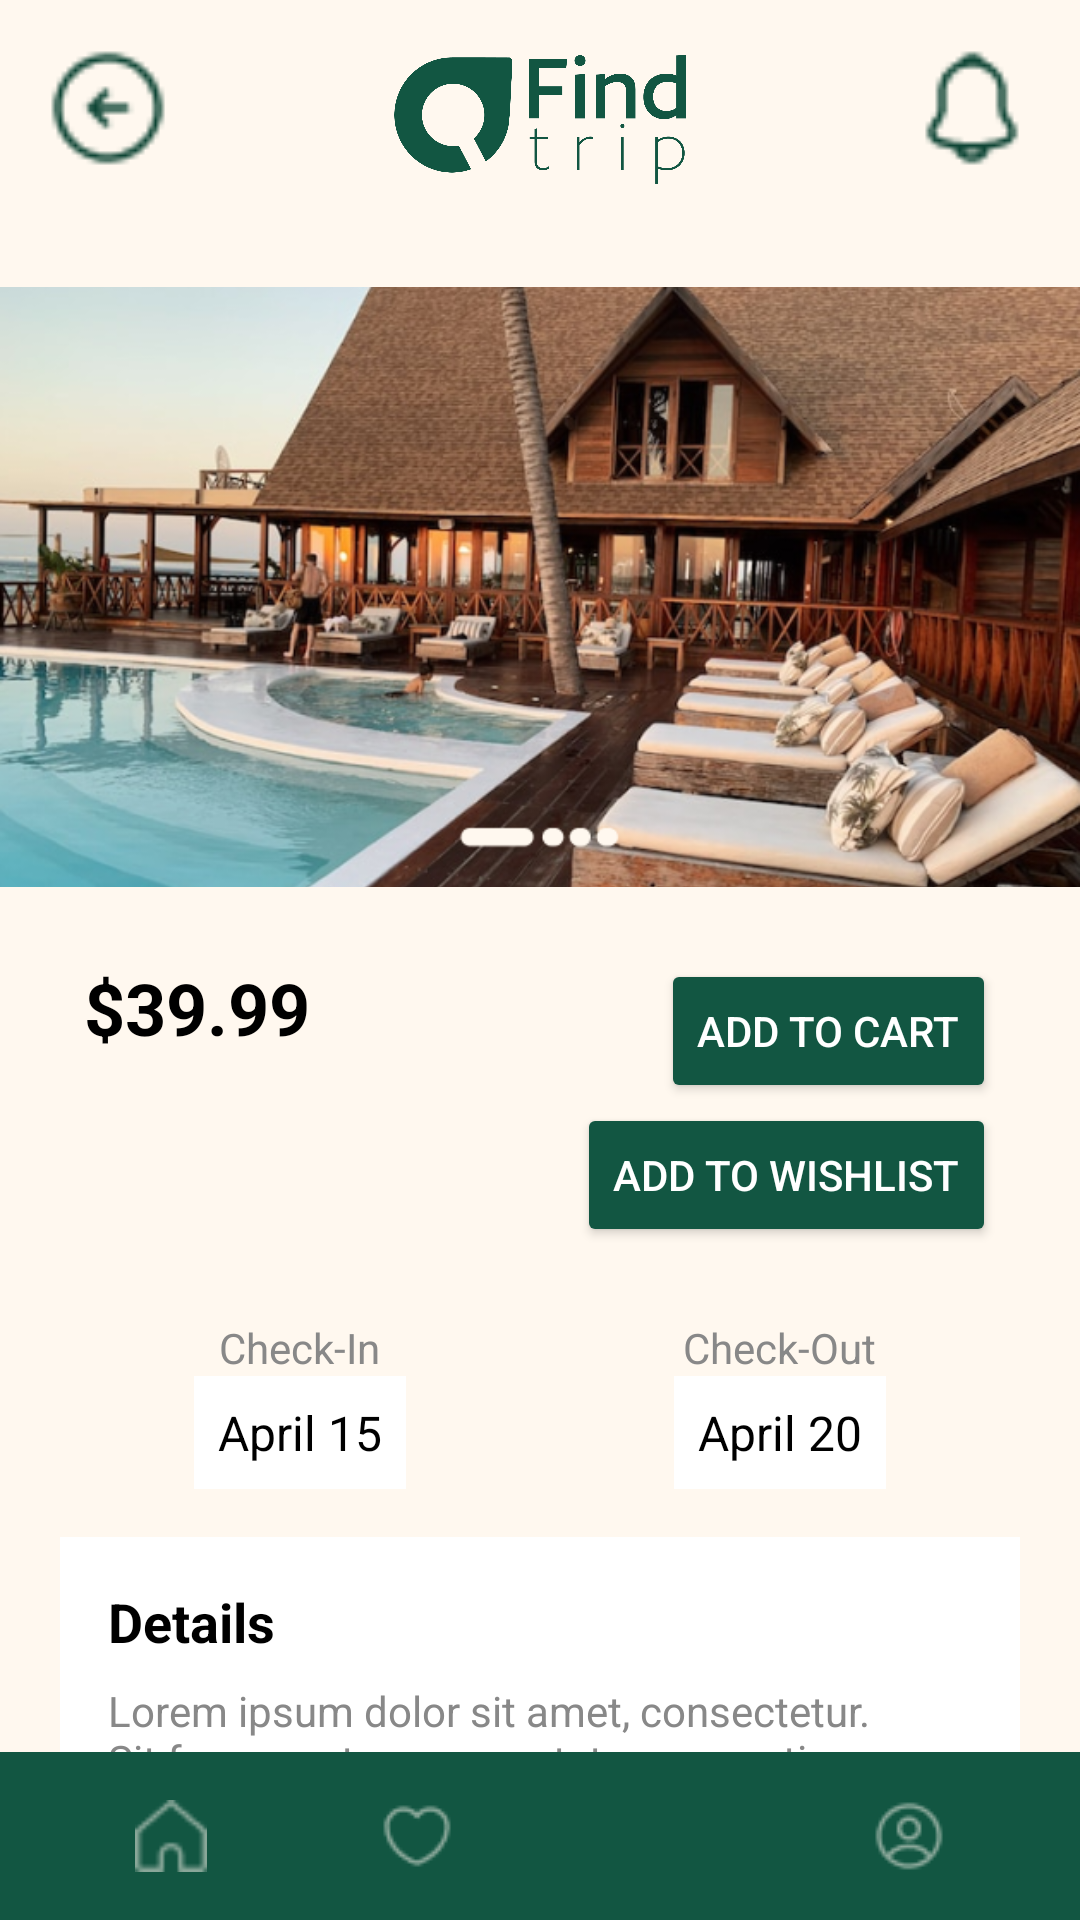

Where icons sit on this 1080w x 1920h app screen, as (x1, y1, x2, y2):
back: (51, 51, 165, 165)
favorite: (383, 1805, 451, 1866)
home: (135, 1800, 207, 1872)
notification: (925, 51, 1019, 165)
profile: (875, 1802, 943, 1870)
